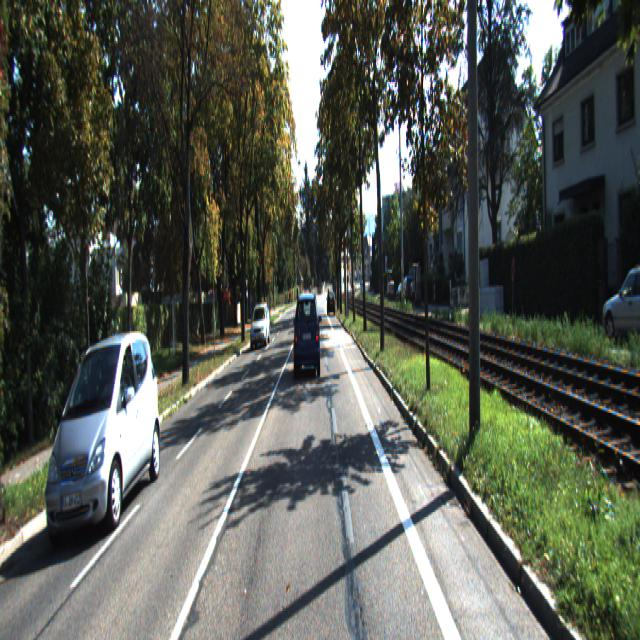Car: (51, 322, 164, 538), (602, 261, 640, 341), (293, 304, 322, 394), (250, 304, 270, 350), (327, 292, 336, 317)
